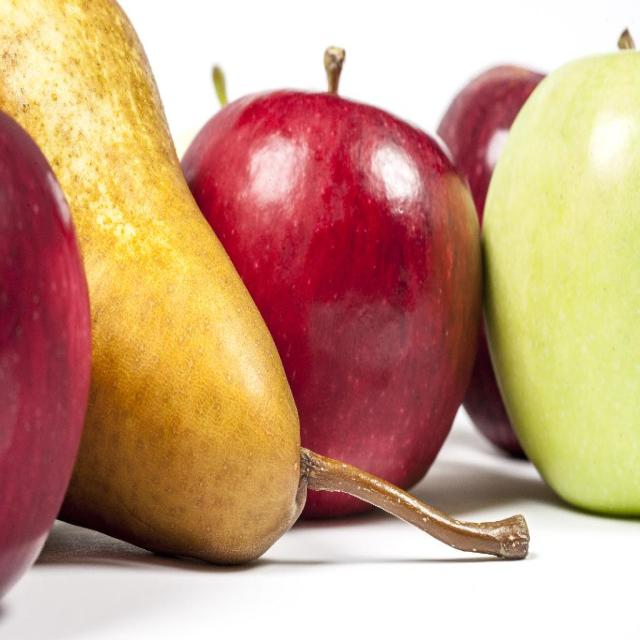apple: (167, 41, 482, 538), (483, 35, 640, 520)
pear: (0, 0, 308, 568)
